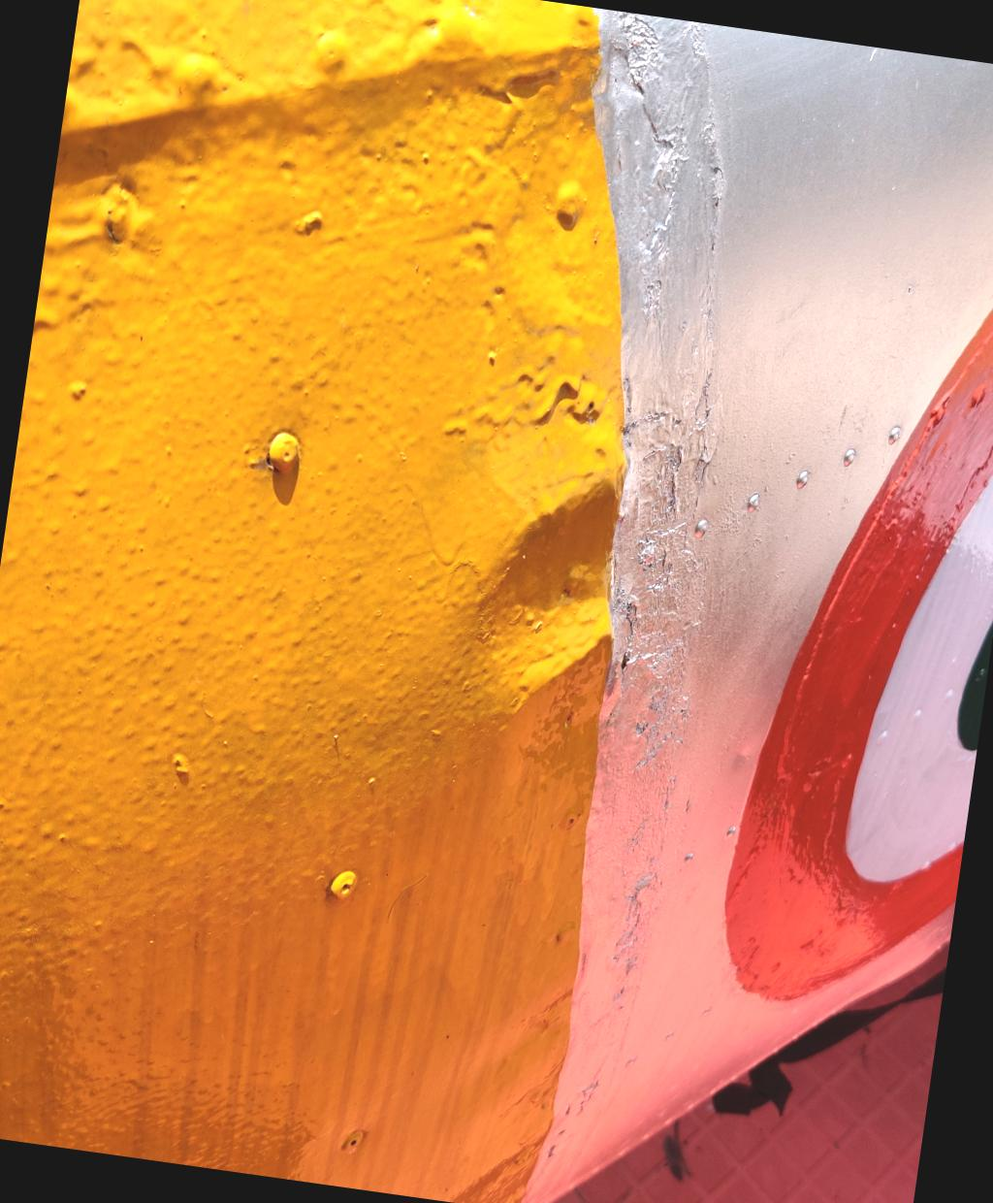dent: (414, 411, 711, 788)
